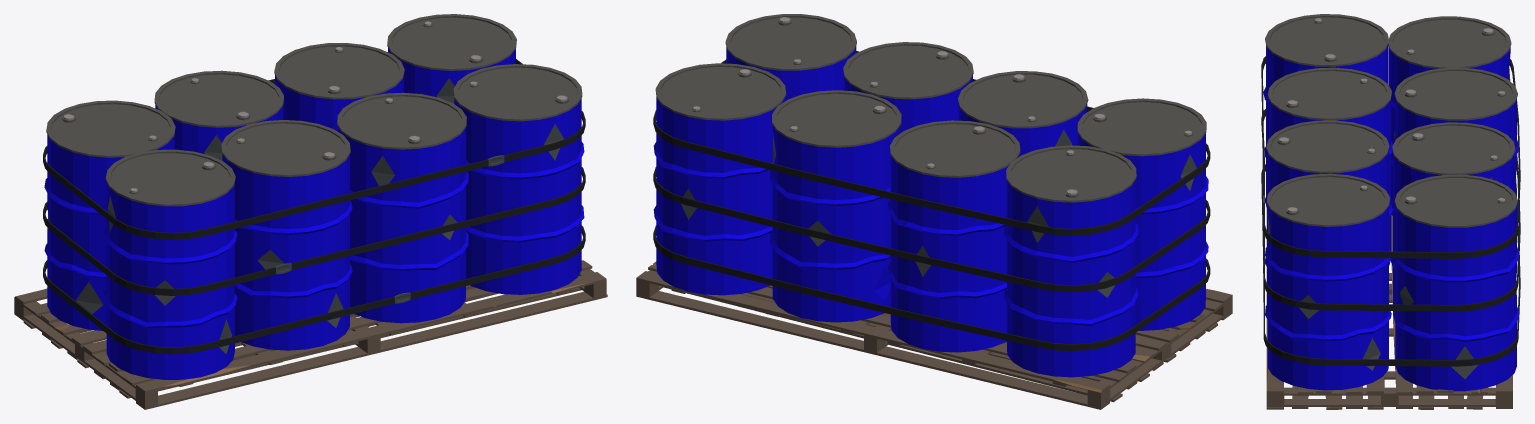
The model's file is SM_Cargo_Barrel.gltf.
The picture shows the model from 3 angles, left to right: view 1: azimuth 30°, elevation 25°; view 2: azimuth 150°, elevation 25°; view 3: azimuth 270°, elevation 25°; orthographic projection. The views are drawn at different scales.
Visible parts, largest first — view 1: SM_Cargo_Barrel; view 2: SM_Cargo_Barrel; view 3: SM_Cargo_Barrel.
Part boxes in pixels (left/top/right/bottom): SM_Cargo_Barrel: left=14, top=14, right=607, bottom=409; SM_Cargo_Barrel: left=636, top=14, right=1232, bottom=409; SM_Cargo_Barrel: left=1261, top=14, right=1520, bottom=409.
Bounding box in the file's own units: 2.48 × 0.999 × 1.26.
